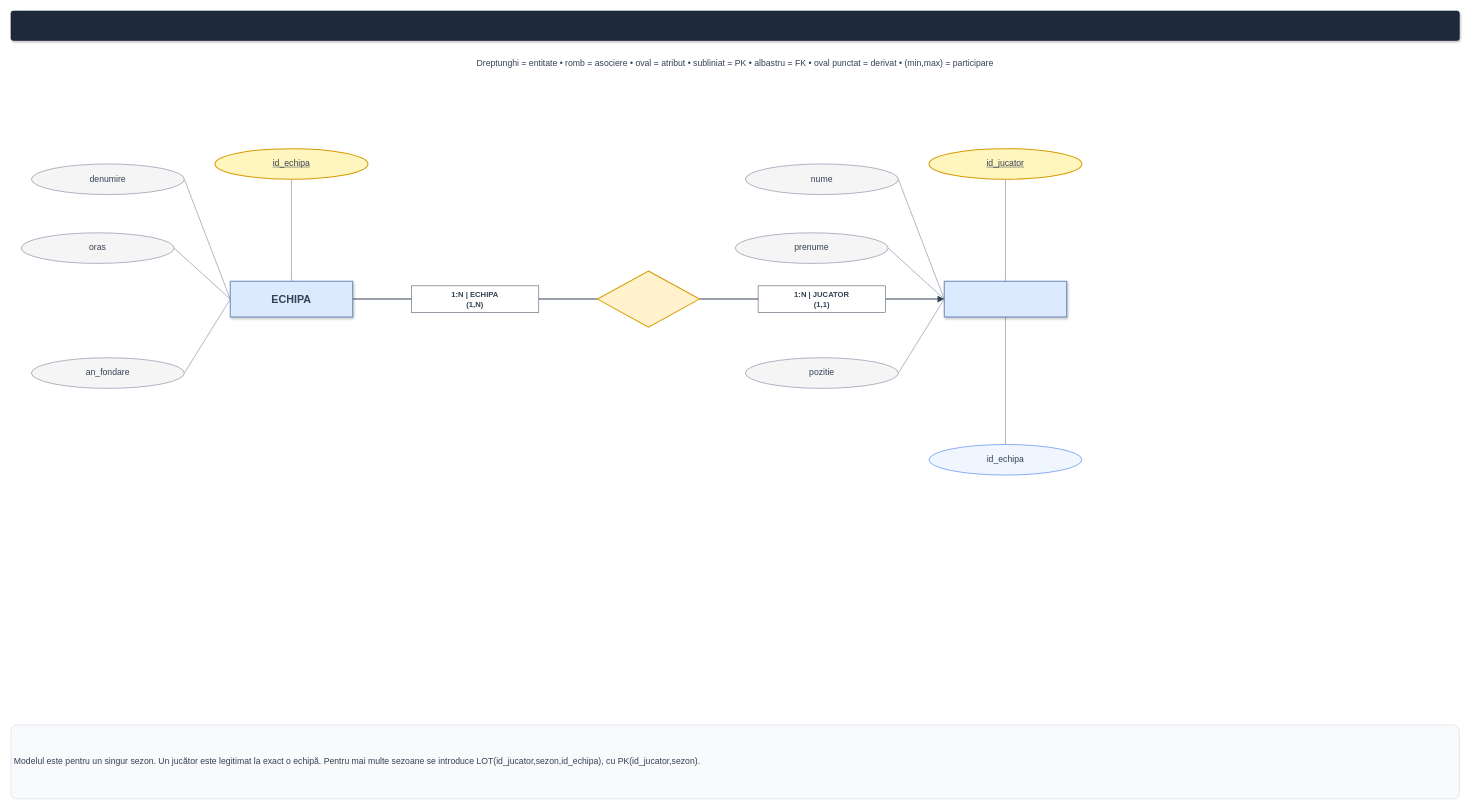
The diagram is 1471 pixels wide and 808 high, and some of its shapes have lost their labels. Here are the shapes that lost their labels. From the top down, the centre of each, then its label:
point (735, 26): 1.B — Managementul sportiv — Diagrama ER / Chen
point (648, 298): Legitimează
point (1005, 299): JUCATOR
